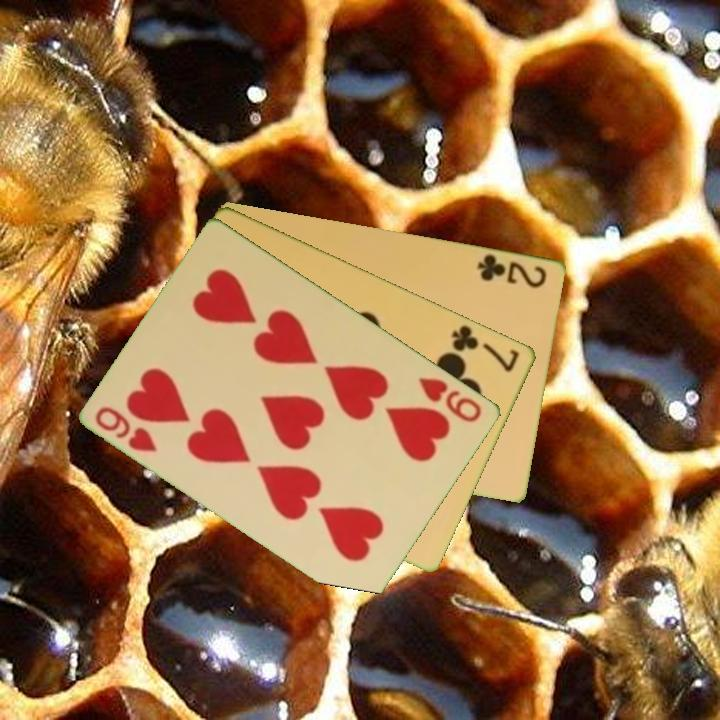2c: (474, 250, 550, 291)
7c: (448, 321, 523, 375)
9h: (415, 373, 485, 425), (92, 403, 161, 455)
